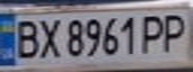1: (118, 12, 142, 55)
6: (100, 14, 121, 56)
8: (63, 16, 84, 58)
9: (81, 15, 103, 57)
B: (9, 16, 42, 61)
P: (136, 11, 172, 55), (157, 10, 193, 54)
X: (33, 15, 63, 60)
